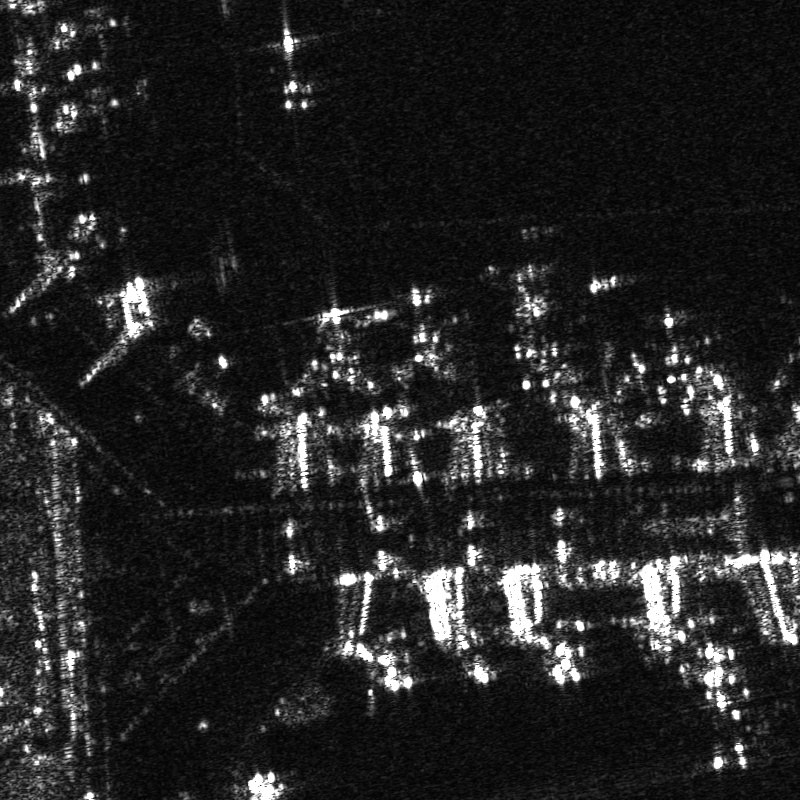A220: (60, 73, 162, 143), (304, 296, 376, 395)
A320/321: (679, 666, 773, 776), (504, 260, 580, 375), (645, 304, 708, 390)
Boeing737: (266, 25, 334, 117)
other: (395, 282, 458, 383)
